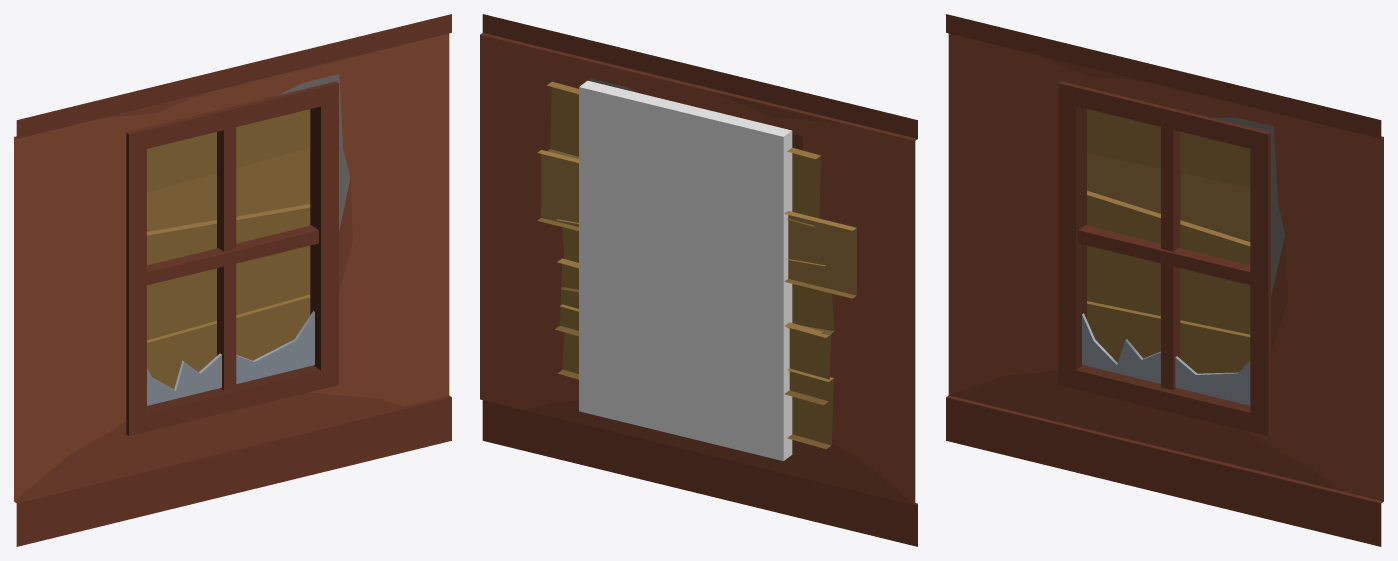
Rendered from AI_Env_Wall_Red_Window_02.fbx.
3 views of the same model, side by side, from view 1: azimuth 30°, elevation 25°; view 2: azimuth 150°, elevation 25°; view 3: azimuth 330°, elevation 25° (orthographic).
Visible parts, largest first — view 1: AI_Env_Wall_Red_Window_02; view 2: AI_Env_Wall_Red_Window_02; view 3: AI_Env_Wall_Red_Window_02.
Part boxes in pixels (x1,y1,x2,y2): AI_Env_Wall_Red_Window_02: (14,14,451,546); AI_Env_Wall_Red_Window_02: (480,14,917,546); AI_Env_Wall_Red_Window_02: (946,14,1383,546).
Bounding box in the file's own units: 5 × 4.69 × 0.3888.
